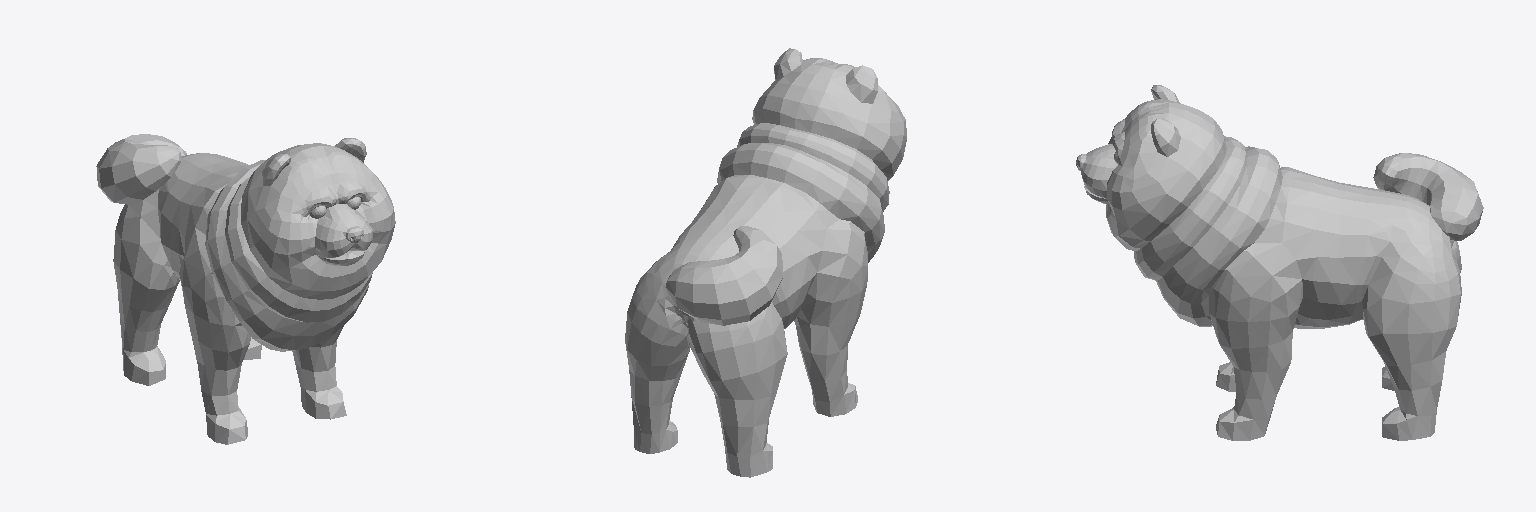
File: RedDog.obj
3 renders of one model, left to right at view 1: azimuth 30°, elevation 25°; view 2: azimuth 150°, elevation 25°; view 3: azimuth 270°, elevation 25°, orthographic.
Visible parts, largest first — view 1: Group24122; view 2: Group24122; view 3: Group24122.
Part boxes in pixels (left/top/right/bottom): Group24122: left=96, top=134, right=395, bottom=444; Group24122: left=625, top=48, right=906, bottom=477; Group24122: left=1076, top=85, right=1483, bottom=440.
Bounding box in the file's own units: 0.3586 × 0.6623 × 0.7945.